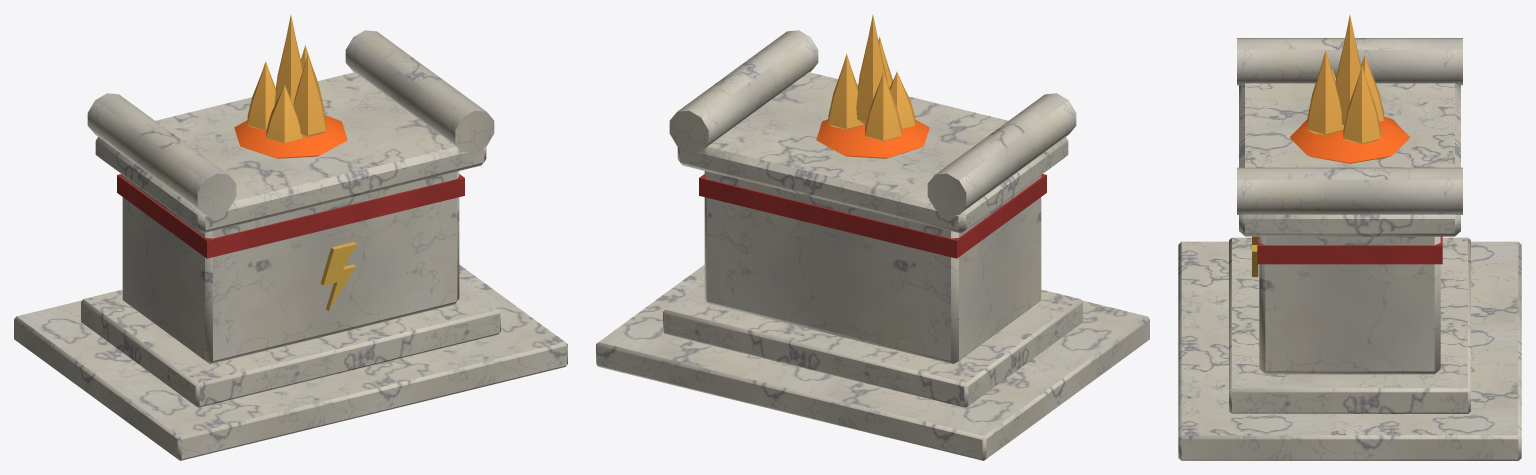
The model's file is decor_altar.glb.
The picture shows the model from 3 angles, left to right: view 1: azimuth 30°, elevation 25°; view 2: azimuth 150°, elevation 25°; view 3: azimuth 270°, elevation 25°; orthographic projection. The views are drawn at different scales.
Visible parts, largest first — view 1: step, marble, paint_red, flame.005, coal, gold; view 2: step, marble, paint_red, flame.005, coal; view 3: step, marble, flame.005, paint_red, coal.
Boxes of the visible parts, box(x1,y1,x2,y2) form: step: box(14, 72, 567, 460); marble: box(87, 30, 494, 364); paint_red: box(117, 174, 464, 258); flame.005: box(247, 15, 326, 142); coal: box(234, 115, 347, 158); gold: box(320, 242, 356, 311); step: box(596, 72, 1149, 460); marble: box(669, 30, 1076, 364); paint_red: box(699, 174, 1046, 258); flame.005: box(828, 15, 915, 140); coal: box(816, 119, 929, 158); step: box(1178, 83, 1521, 460); marble: box(1237, 38, 1462, 374); flame.005: box(1307, 15, 1383, 144); paint_red: box(1257, 236, 1442, 264); coal: box(1289, 116, 1410, 163).
Bounding box in the file's own units: 2.3 × 1.91 × 1.7.
Materials: 6 (3 with a texture image).
